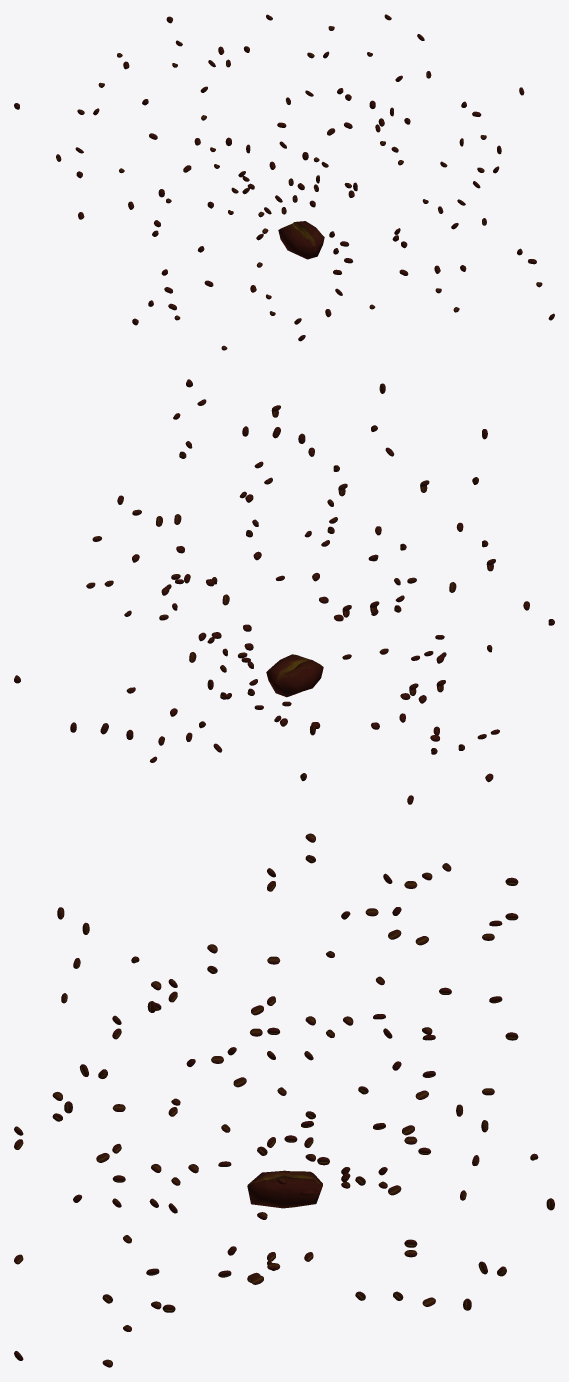
The model's file is cofee_beans.gltf.
The picture shows the model from 3 angles, top to bottom: view 1: azimuth 30°, elevation 25°; view 2: azimuth 150°, elevation 25°; view 3: azimuth 270°, elevation 25°; orthographic projection. The views are drawn at different scales.
Visible parts, largest first — view 1: Cube.005; view 2: Cube.005; view 3: Cube.005.
Part boxes in pixels (x1=…): Cube.005: x1=278, y1=221, x2=324, y2=259; Cube.005: x1=266, y1=654, x2=323, y2=697; Cube.005: x1=247, y1=1170, x2=322, y2=1208.
Size of the model in its own units: 36.43 by 24.48 by 32.14.
1 material, 1 textured.
